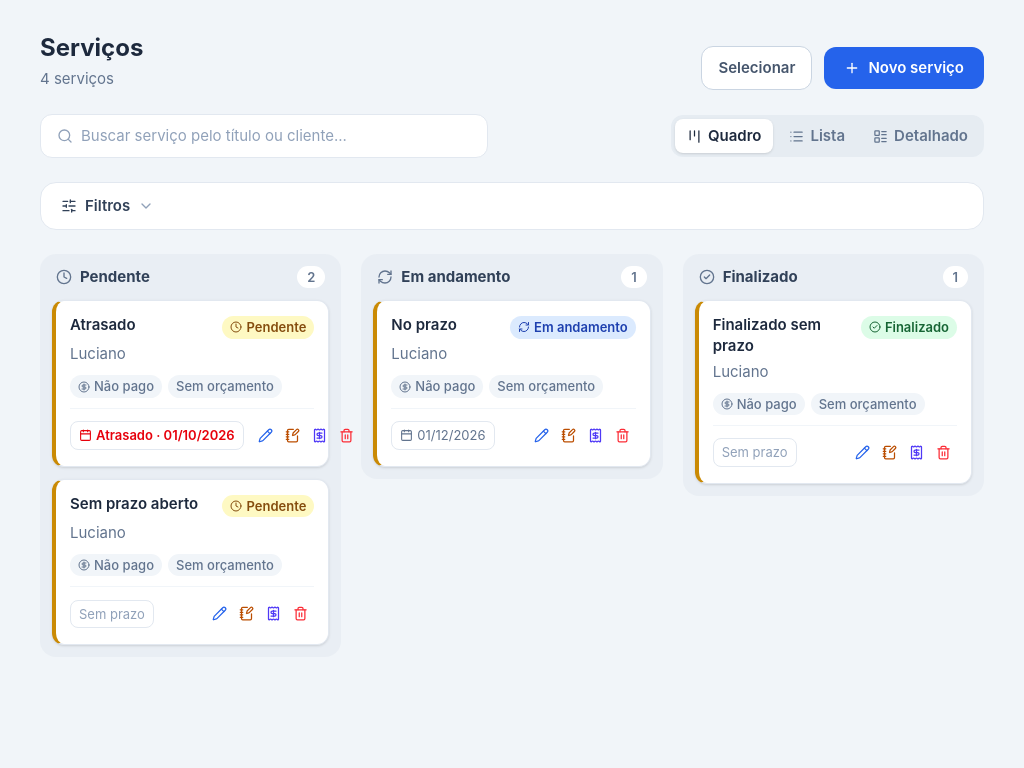
tela de Serviços › exclui vários serviços selecionados depois de confirmar
expect the text "Atrasado" is shown: met, box [70,315,136,334]
Click the button "Selecionar".
click(757, 68)  # box [701,46,812,90]
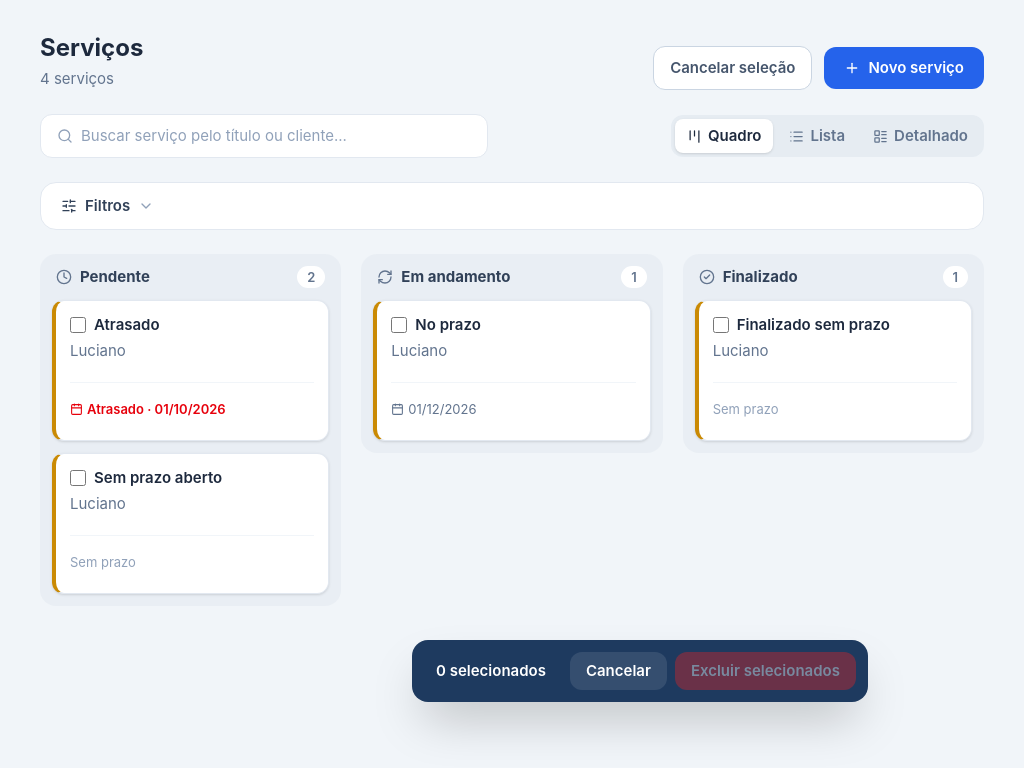
Click the text "Atrasado".
click(127, 325)  # box [94,315,160,334]
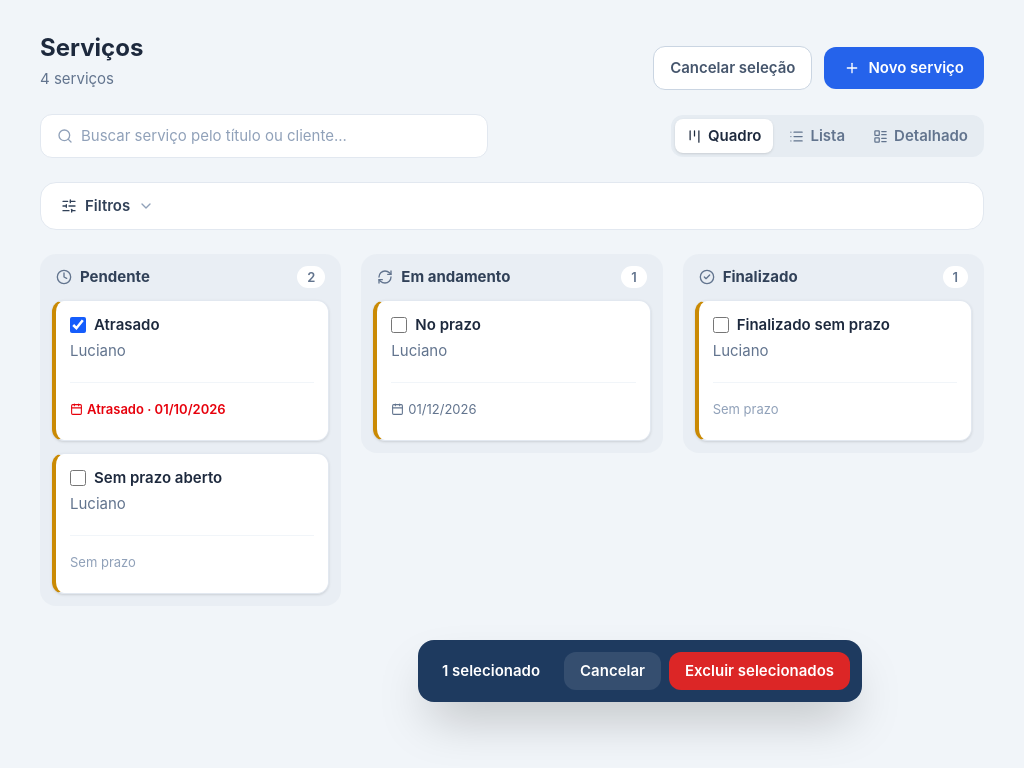
Click the text "No prazo".
click(448, 325)  # box [415,315,481,334]
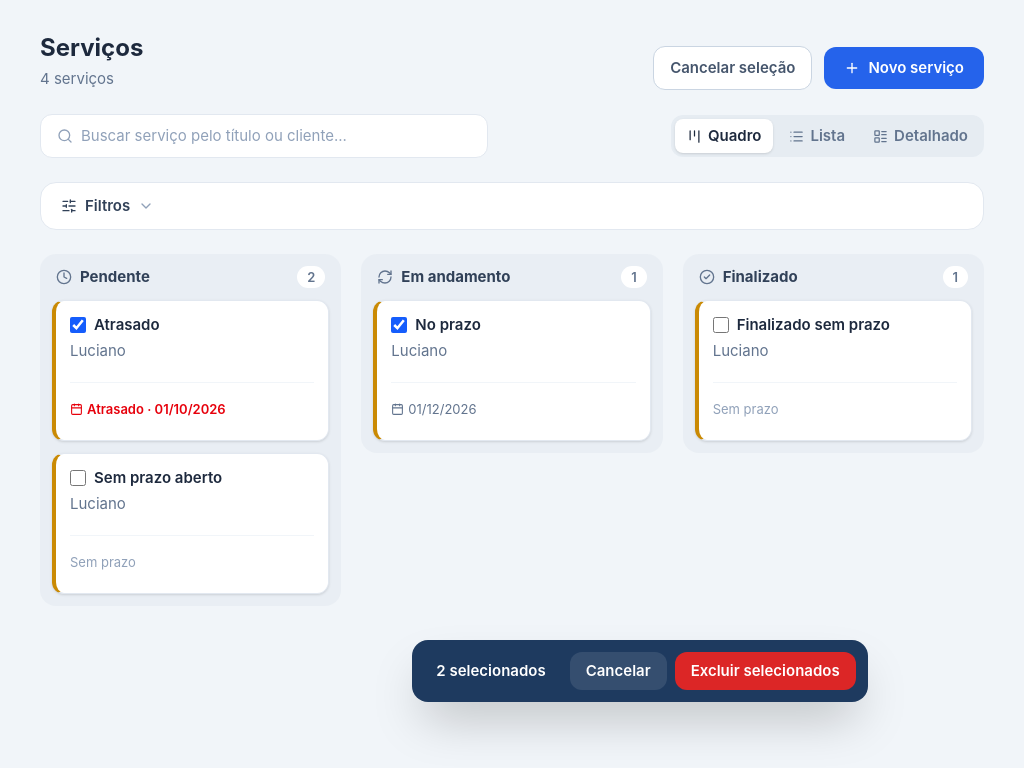
expect the text "2 selecionados" is shown: met, box [436,660,546,682]
Click the button "Excluir selecionados".
click(765, 671)  # box [675,652,856,690]
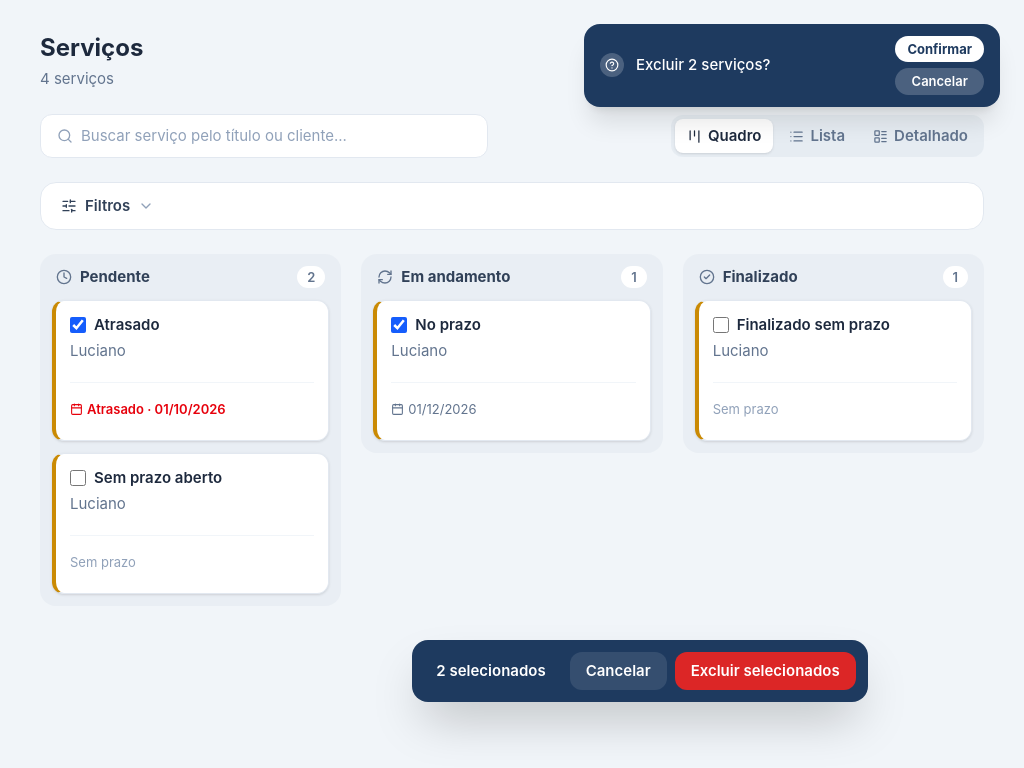
Click the button "Confirmar".
click(940, 49)  # box [895,36,984,62]
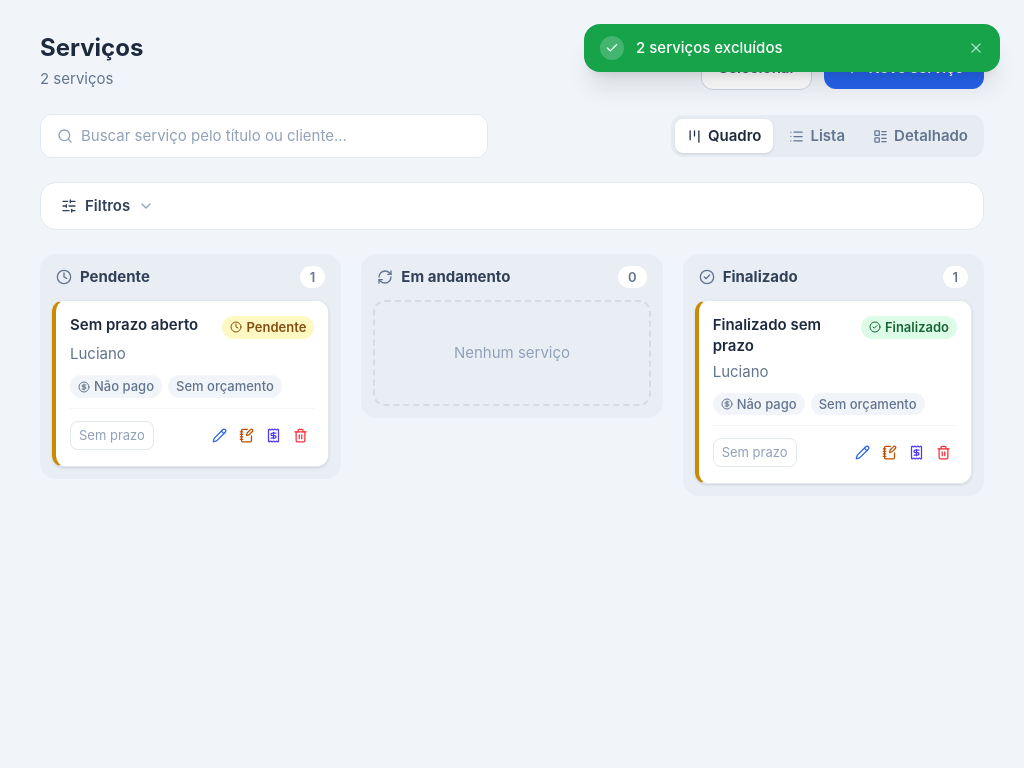
expect the text "2 serviços excluídos" is shown: met, box [636,38,782,57]
